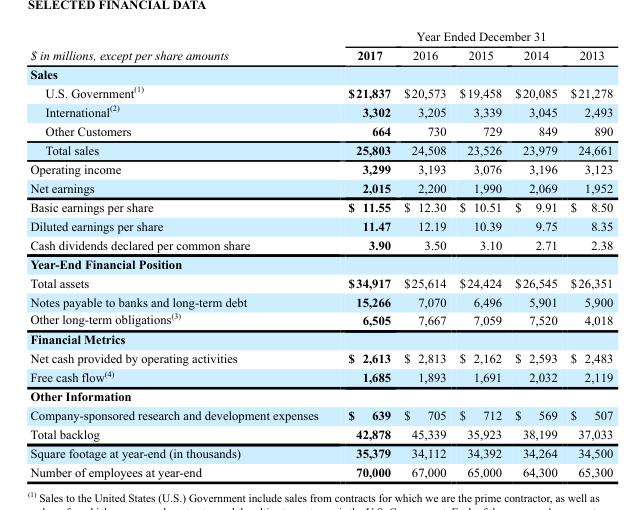table: (29, 29, 612, 478)
table column: (29, 29, 332, 478), (332, 29, 396, 478), (396, 29, 452, 478), (507, 29, 563, 478), (452, 29, 507, 478), (563, 29, 612, 478)
table column header: (29, 29, 612, 64)
table projected row header: (29, 253, 612, 272), (29, 329, 612, 348), (29, 386, 612, 405), (29, 64, 612, 82)
table row: (29, 101, 612, 121), (29, 309, 612, 329), (29, 366, 612, 386), (29, 45, 612, 64), (29, 82, 612, 101), (29, 121, 612, 140), (29, 140, 612, 159), (29, 159, 612, 178), (29, 178, 612, 197), (29, 197, 612, 216), (29, 234, 612, 253), (29, 253, 612, 272), (29, 272, 612, 291), (29, 329, 612, 348), (29, 386, 612, 405), (29, 405, 612, 424), (29, 424, 612, 443), (29, 443, 612, 462), (29, 64, 612, 82), (29, 216, 612, 234), (29, 291, 612, 309), (29, 348, 612, 366), (29, 29, 612, 45), (29, 462, 612, 478)
table spanning cell: (29, 29, 332, 64), (332, 29, 612, 45)
